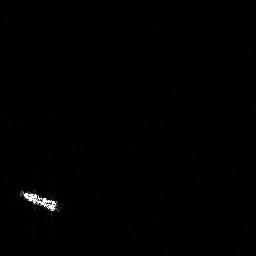ship: (16, 187, 62, 215)
